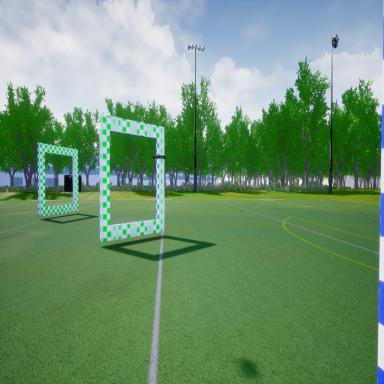gate: (98, 103, 166, 245), (38, 137, 80, 220)
